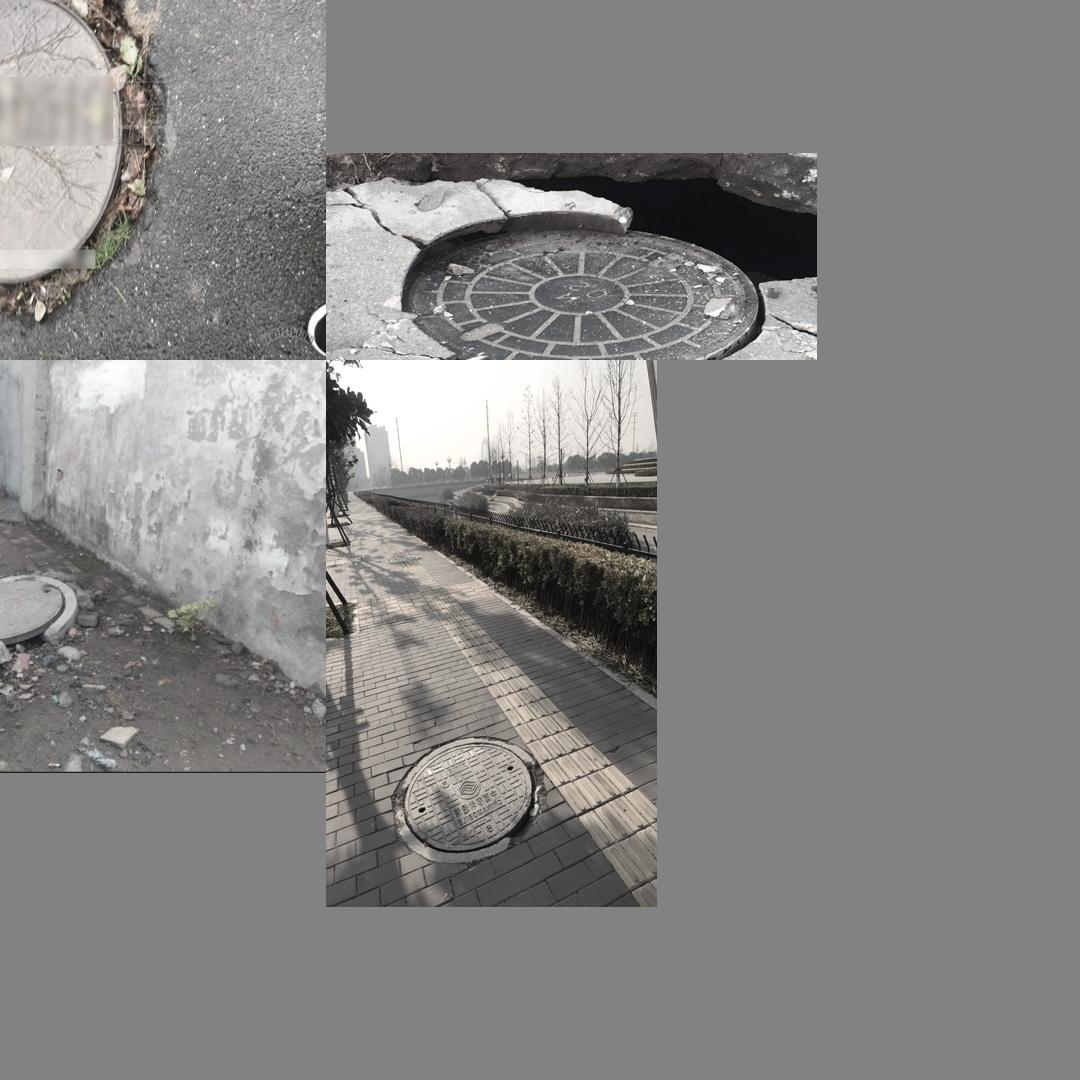circle: (331, 161, 809, 357), (0, 0, 167, 317), (389, 736, 546, 863), (0, 573, 80, 666)
